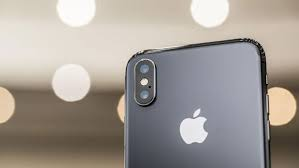iphone: (121, 35, 274, 168)
